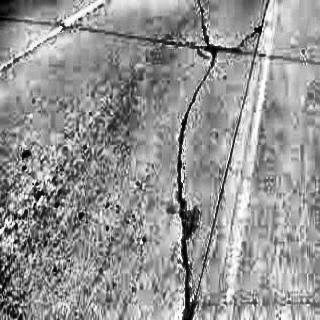crack: (173, 6, 217, 320), (208, 21, 264, 58)
